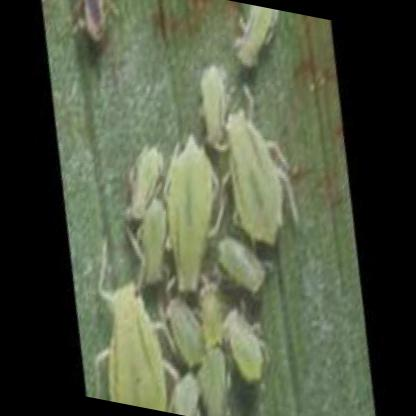schizaphis graminum: (90, 241, 164, 409), (225, 112, 280, 250), (165, 134, 211, 298), (225, 304, 261, 380), (168, 301, 203, 368), (223, 242, 268, 293), (141, 202, 165, 287)
